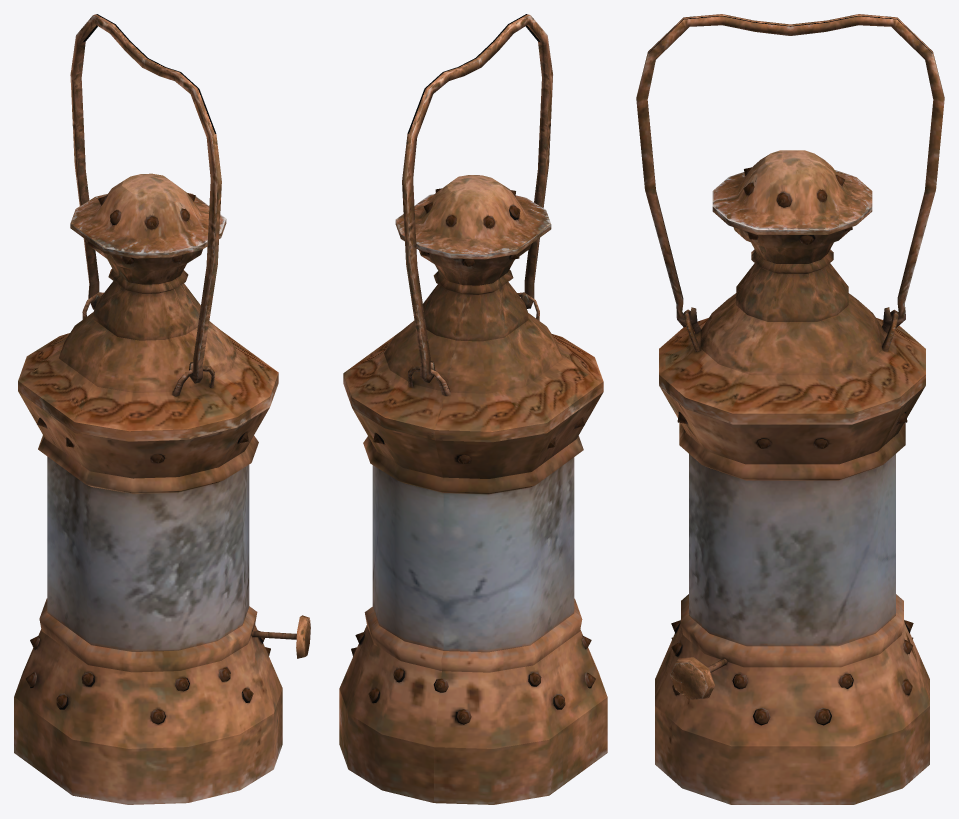
The model's file is lantern.dae.
3 views of the same model, side by side, from view 1: azimuth 30°, elevation 25°; view 2: azimuth 150°, elevation 25°; view 3: azimuth 270°, elevation 25° (orthographic). The views are drawn at different scales.
Parts seen in each view (by area): view 1: latern, handle; view 2: latern, handle; view 3: latern, handle.
Boxes of the visible parts, x1,y1,x2,y2 form: latern: (14,173,310,804); handle: (70,14,221,383); latern: (339,175,607,804); handle: (402,14,552,382); latern: (655,150,929,804); handle: (636,14,944,327).
Size of the model in its own units: 0.1451 by 0.4235 by 0.161.
